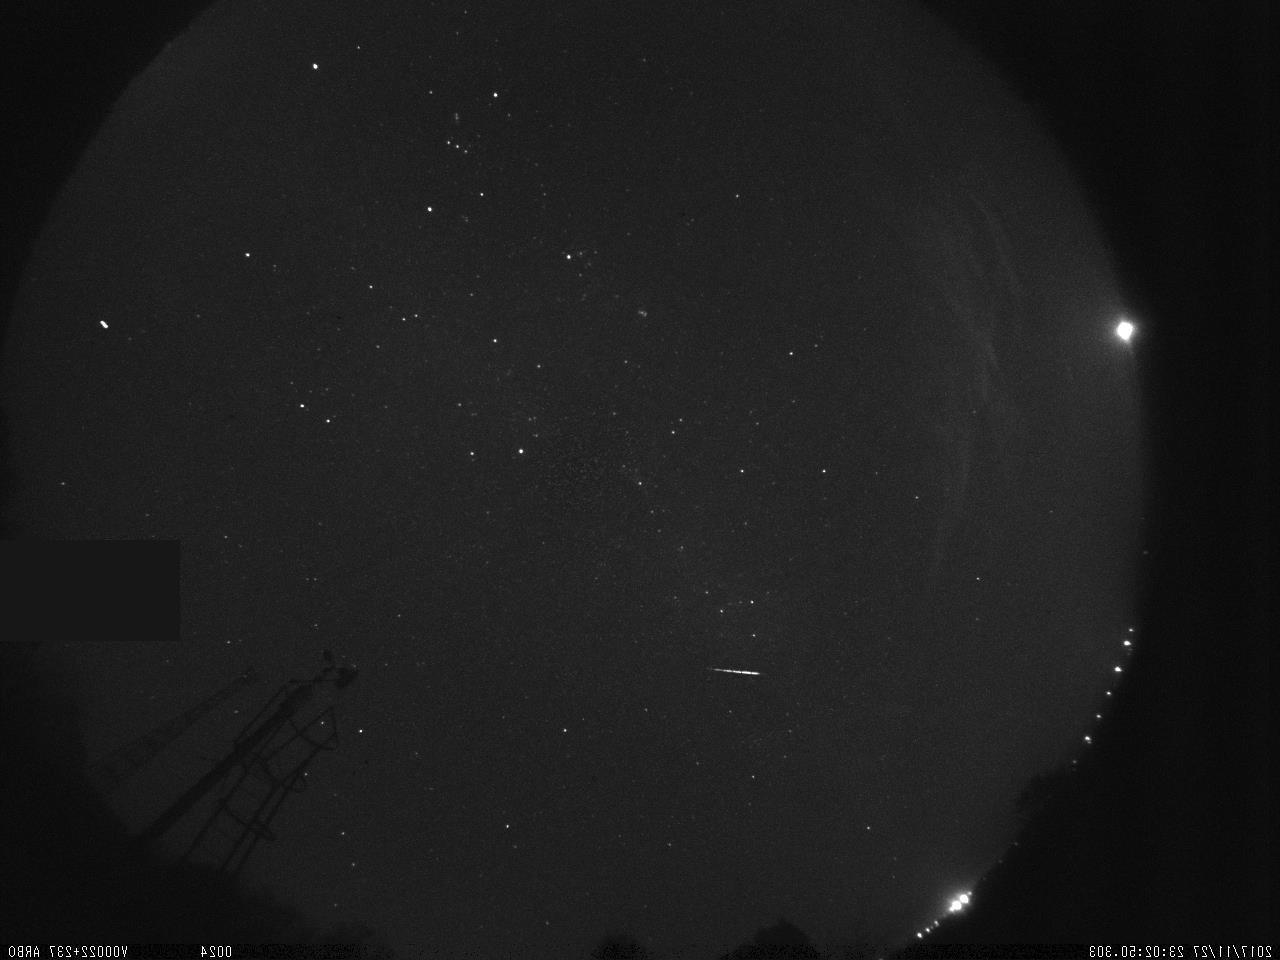meteor: (702, 657, 769, 692)
